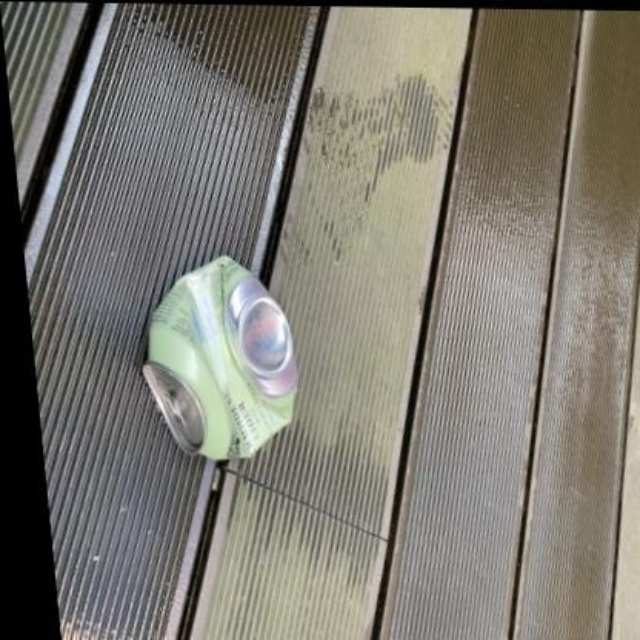trash: (143, 257, 295, 458)
